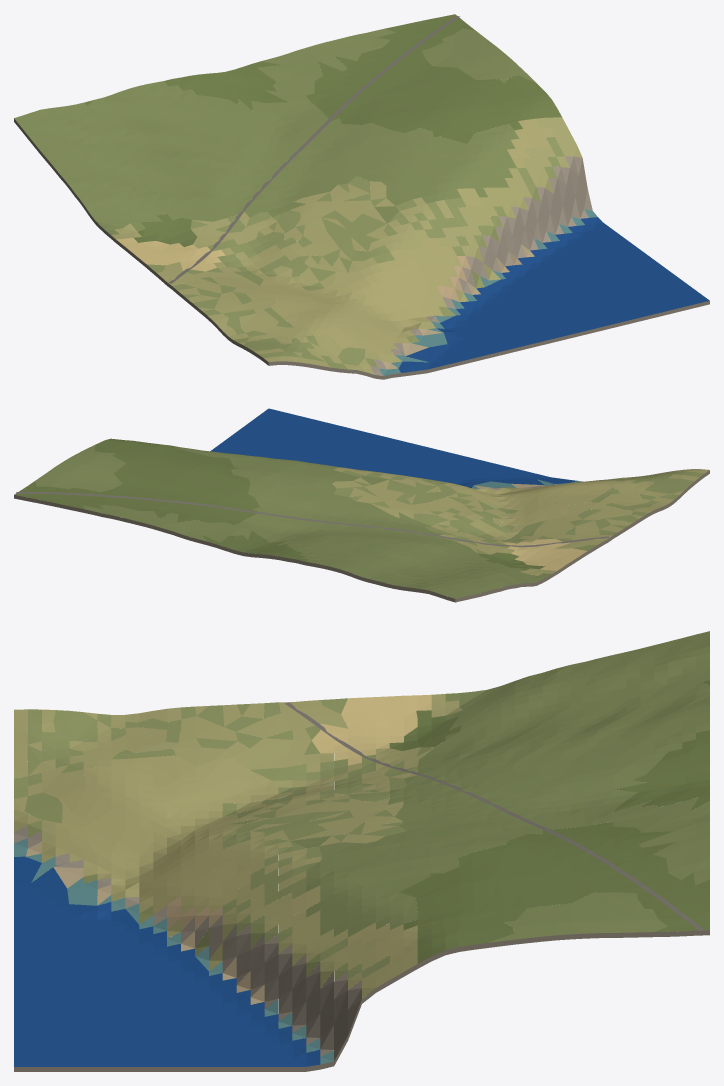
Rendered from parca_+7_-9-uzak.glb.
The picture shows the model from 3 angles, top to bottom: view 1: azimuth 30°, elevation 25°; view 2: azimuth 150°, elevation 25°; view 3: azimuth 270°, elevation 25°; orthographic projection. The views are drawn at different scales.
Visible parts, largest first — view 1: parca_+7_-9_arazi_uzak, parca_+7_-9_yollar_uzak; view 2: parca_+7_-9_arazi_uzak, parca_+7_-9_yollar_uzak; view 3: parca_+7_-9_arazi_uzak, parca_+7_-9_yollar_uzak.
Part boxes in pixels (x1=…): parca_+7_-9_arazi_uzak: x1=14, y1=14, x2=709, y2=379; parca_+7_-9_yollar_uzak: x1=168, y1=16, x2=459, y2=283; parca_+7_-9_arazi_uzak: x1=14, y1=408, x2=709, y2=602; parca_+7_-9_yollar_uzak: x1=16, y1=492, x2=609, y2=547; parca_+7_-9_arazi_uzak: x1=14, y1=631, x2=709, y2=1071; parca_+7_-9_yollar_uzak: x1=284, y1=702, x2=704, y2=931.
Bounding box in the file's own units: 1003 × 237 × 1000.
